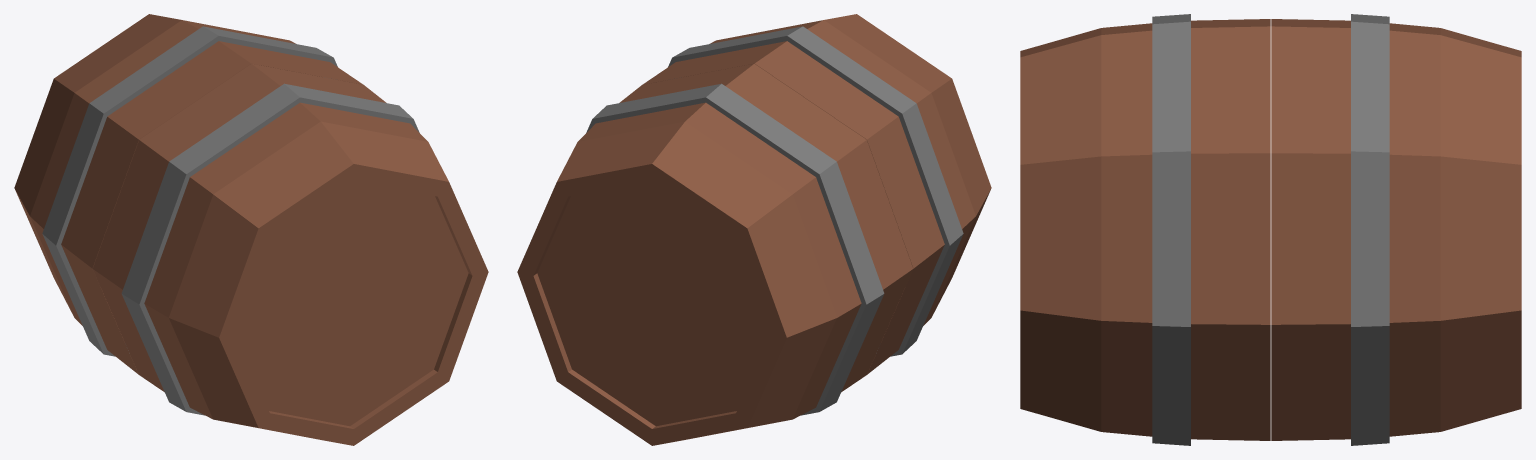
File: barrel.glb
3 views of the same model, side by side, from view 1: azimuth 30°, elevation 25°; view 2: azimuth 150°, elevation 25°; view 3: azimuth 270°, elevation 25° (orthographic). The views are drawn at different scales.
Parts seen in each view (by area): view 1: Cylinder; view 2: Cylinder; view 3: Cylinder.
Boxes of the visible parts, x1,y1,x2,y2 form: Cylinder: [14, 14, 488, 445]; Cylinder: [517, 14, 991, 445]; Cylinder: [1020, 14, 1521, 445].
Bounding box in the file's own units: 2.77 × 2.77 × 3.02.
